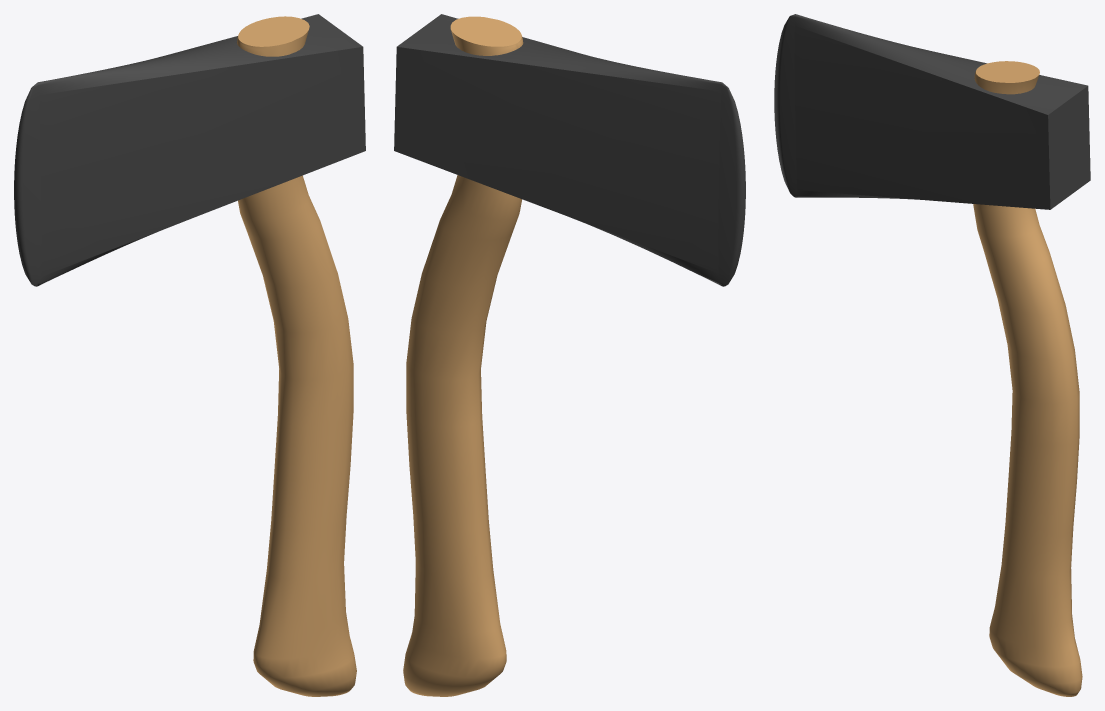
File: Rock Axe.fbx
3 views of the same model, side by side, from view 1: azimuth 30°, elevation 25°; view 2: azimuth 150°, elevation 25°; view 3: azimuth 330°, elevation 25° (orthographic). The views are drawn at different scales.
Visible parts, largest first — view 1: Object_4, Object_3; view 2: Object_4, Object_3; view 3: Object_4, Object_3.
Boxes of the visible parts, left/top/right/bottom form: Object_4: left=14, top=14, right=365, bottom=286; Object_3: left=237, top=16, right=356, bottom=696; Object_4: left=394, top=14, right=745, bottom=286; Object_3: left=403, top=16, right=523, bottom=696; Object_4: left=774, top=14, right=1090, bottom=209; Object_3: left=973, top=61, right=1082, bottom=696.
Bounding box in the file's own units: 27.75 × 53.21 × 6.32.
